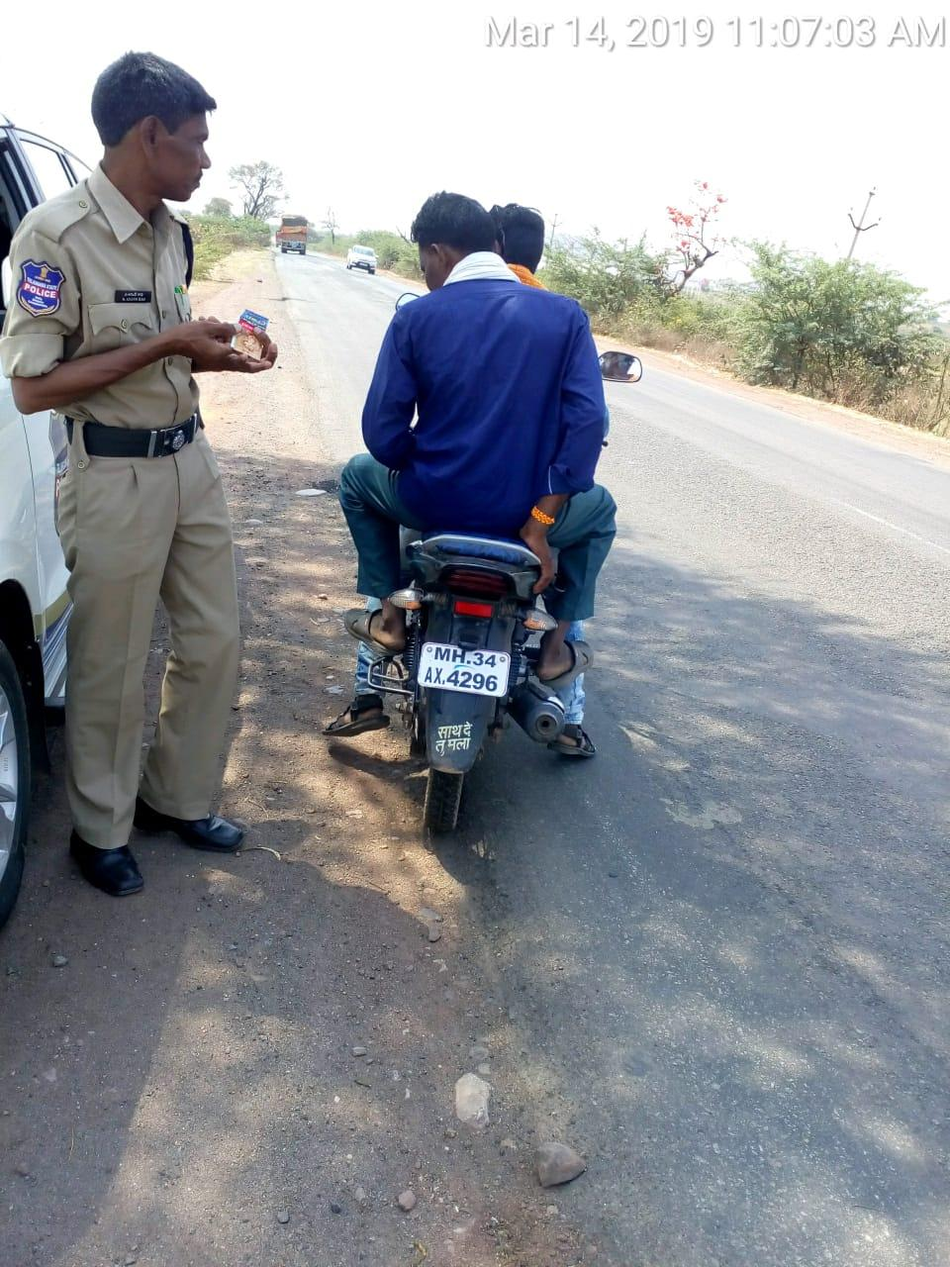plate: (415, 637, 518, 700)
